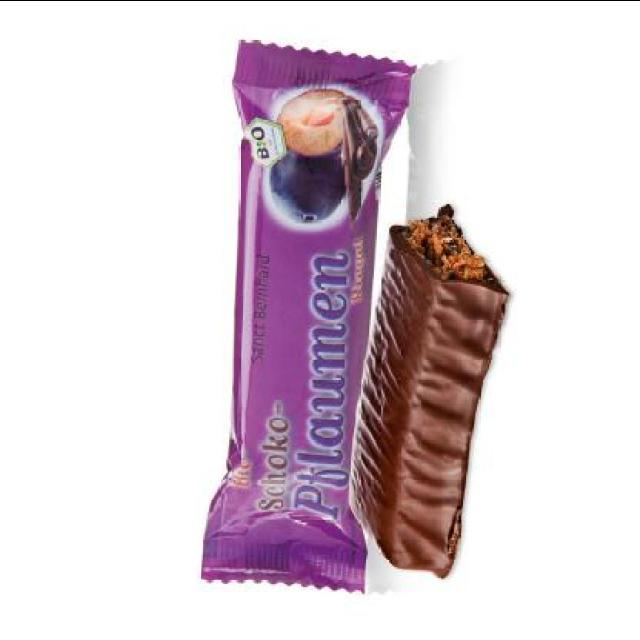Chocolate bar: (197, 37, 426, 591)
Chocolate bar packaged: (348, 199, 510, 579)
